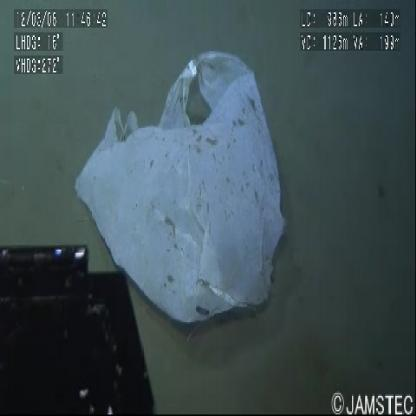Rov: (1, 226, 160, 416)
Rác: (73, 49, 294, 332)
